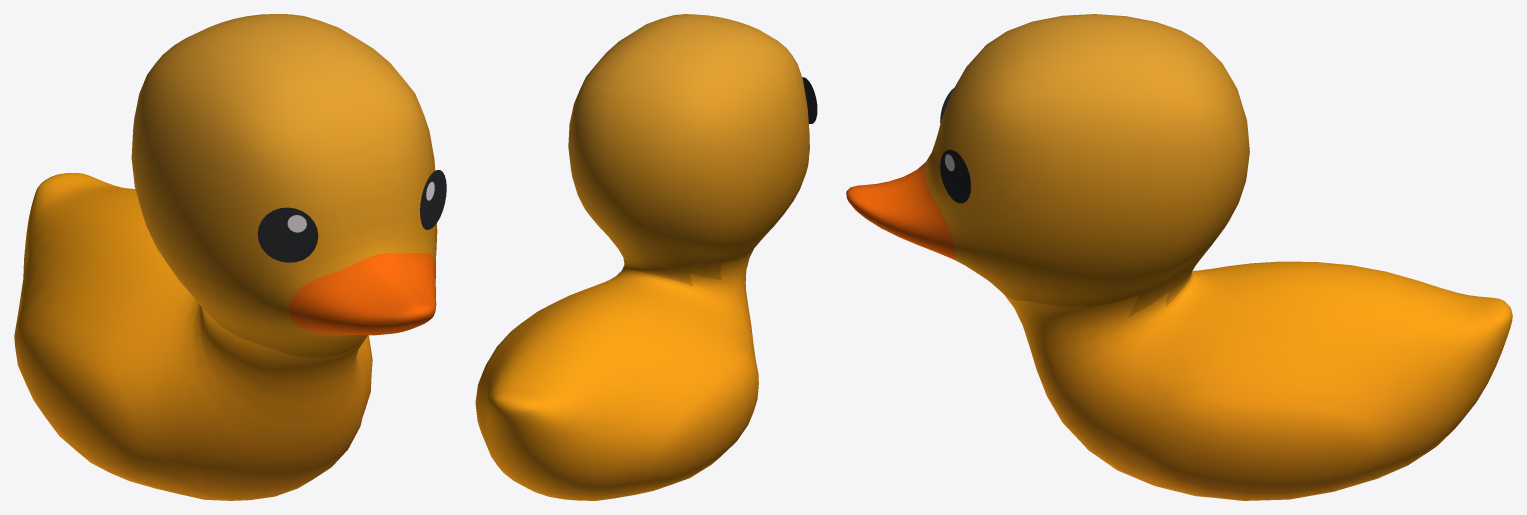
File: ördek.fbx
3 renders of one model, left to right at view 1: azimuth 30°, elevation 25°; view 2: azimuth 150°, elevation 25°; view 3: azimuth 270°, elevation 25°, orthographic. The views are drawn at different scales.
Parts seen in each view (by area): view 1: RubberDuck_Orange; view 2: RubberDuck_Orange; view 3: RubberDuck_Orange.
Part boxes in pixels (x1,y1,x2,y2): RubberDuck_Orange: [14, 14, 446, 500]; RubberDuck_Orange: [475, 14, 817, 500]; RubberDuck_Orange: [846, 14, 1512, 500].
Bounding box in the file's own units: 160 × 263 × 351.
